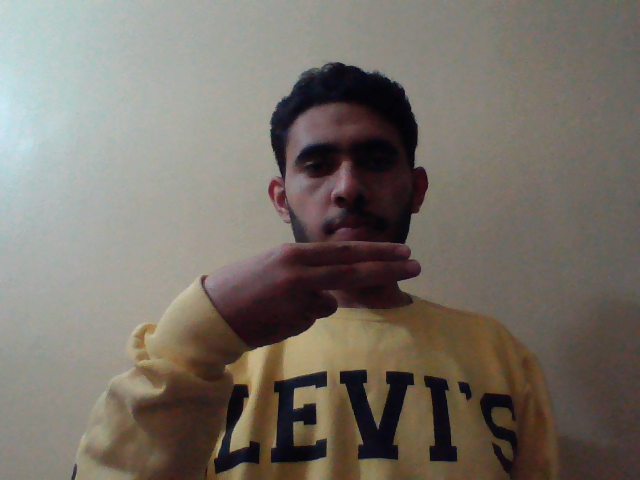H: (185, 236, 428, 351)
